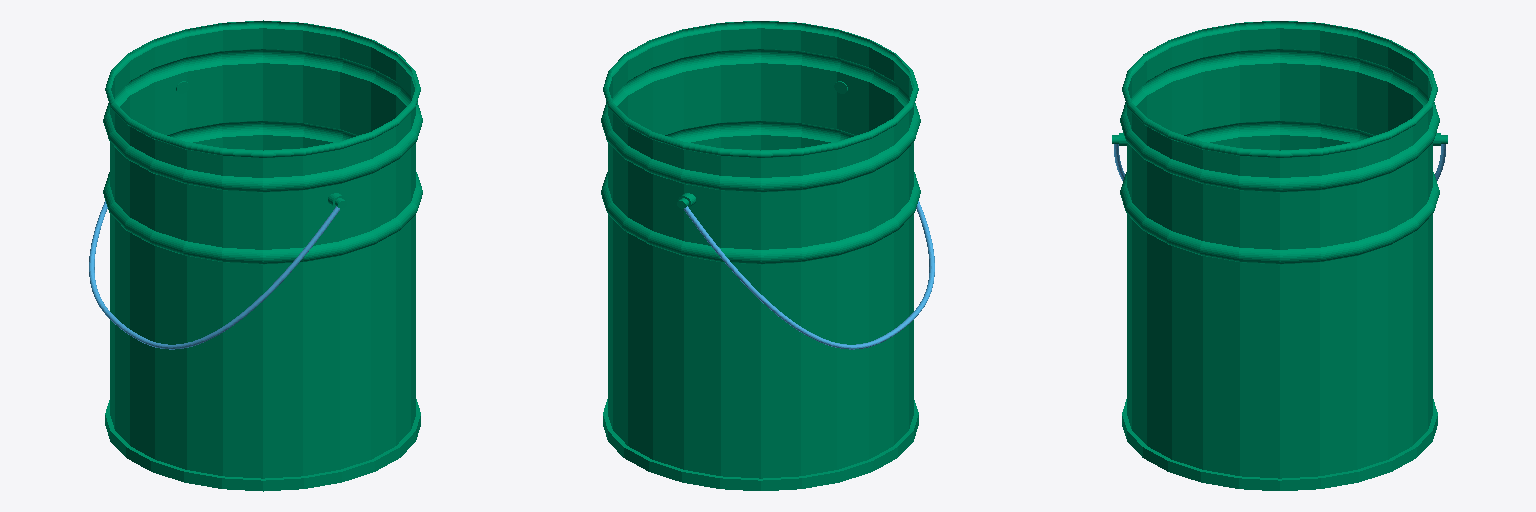
The robot description file, URDF, robot "partnet_uce940367-b7b4-43b9-af12-eae51692f2f7":
<?xml version="1.0" ?>
<robot name="partnet_uce940367-b7b4-43b9-af12-eae51692f2f7">
	<link name="base"/>
	<link name="link_0">
		<visual name="handle-1">
			<origin xyz="0 -0.3550381301112663 -0.01407460166215898"/>
			<geometry>
				<mesh filename="textured_objs/original-9.obj"/>
			</geometry>
		</visual>
		<visual name="handle-1">
			<origin xyz="0 -0.3550381301112663 -0.01407460166215898"/>
			<geometry>
				<mesh filename="textured_objs/original-13.obj"/>
			</geometry>
		</visual>
		<collision>
			<origin xyz="0 -0.3550381301112663 -0.01407460166215898"/>
			<geometry>
				<mesh filename="textured_objs/original-9.obj"/>
			</geometry>
		</collision>
		<collision>
			<origin xyz="0 -0.3550381301112663 -0.01407460166215898"/>
			<geometry>
				<mesh filename="textured_objs/original-13.obj"/>
			</geometry>
		</collision>
	</link>
	<joint name="joint_0" type="revolute">
		<origin xyz="0 0.3550381301112663 0.01407460166215898"/>
		<axis xyz="-1 0 0"/>
		<child link="link_0"/>
		<parent link="link_1"/>
		<limit lower="-0.0" upper="4.781504018763666"/>
	</joint>
	<link name="link_1">
		<visual name="base_body-3">
			<origin xyz="0 0 0"/>
			<geometry>
				<mesh filename="textured_objs/original-3.obj"/>
			</geometry>
		</visual>
		<visual name="base_body-3">
			<origin xyz="0 0 0"/>
			<geometry>
				<mesh filename="textured_objs/original-2.obj"/>
			</geometry>
		</visual>
		<visual name="base_body-3">
			<origin xyz="0 0 0"/>
			<geometry>
				<mesh filename="textured_objs/original-8.obj"/>
			</geometry>
		</visual>
		<visual name="base_body-3">
			<origin xyz="0 0 0"/>
			<geometry>
				<mesh filename="textured_objs/original-5.obj"/>
			</geometry>
		</visual>
		<visual name="base_body-3">
			<origin xyz="0 0 0"/>
			<geometry>
				<mesh filename="textured_objs/original-11.obj"/>
			</geometry>
		</visual>
		<visual name="base_body-3">
			<origin xyz="0 0 0"/>
			<geometry>
				<mesh filename="textured_objs/original-12.obj"/>
			</geometry>
		</visual>
		<visual name="base_body-3">
			<origin xyz="0 0 0"/>
			<geometry>
				<mesh filename="textured_objs/original-7.obj"/>
			</geometry>
		</visual>
		<collision>
			<origin xyz="0 0 0"/>
			<geometry>
				<mesh filename="textured_objs/original-3.obj"/>
			</geometry>
		</collision>
		<collision>
			<origin xyz="0 0 0"/>
			<geometry>
				<mesh filename="textured_objs/original-2.obj"/>
			</geometry>
		</collision>
		<collision>
			<origin xyz="0 0 0"/>
			<geometry>
				<mesh filename="textured_objs/original-8.obj"/>
			</geometry>
		</collision>
		<collision>
			<origin xyz="0 0 0"/>
			<geometry>
				<mesh filename="textured_objs/original-5.obj"/>
			</geometry>
		</collision>
		<collision>
			<origin xyz="0 0 0"/>
			<geometry>
				<mesh filename="textured_objs/original-11.obj"/>
			</geometry>
		</collision>
		<collision>
			<origin xyz="0 0 0"/>
			<geometry>
				<mesh filename="textured_objs/original-12.obj"/>
			</geometry>
		</collision>
		<collision>
			<origin xyz="0 0 0"/>
			<geometry>
				<mesh filename="textured_objs/original-7.obj"/>
			</geometry>
		</collision>
	</link>
	<joint name="joint_1" type="fixed">
		<origin rpy="1.570796326794897 0 -1.570796326794897" xyz="0 0 0"/>
		<child link="link_1"/>
		<parent link="base"/>
	</joint>
</robot>

--- Render facts (derived) ---
Views: 3 orthographic renders of the robot side by side, from view 1: azimuth 30°, elevation 25°; view 2: azimuth 150°, elevation 25°; view 3: azimuth 270°, elevation 25°.
Model partnet_uce940367-b7b4-43b9-af12-eae51692f2f7 with 3 links and 2 joints (1 revolute, 1 fixed), rooted at base, posed all joints at 0.
Visible links, largest first — view 1: link_1, link_0; view 2: link_1, link_0; view 3: link_1.
Link boxes in pixels (bbox=[...]): link_1: bbox=[103, 20, 422, 491]; link_0: bbox=[89, 201, 339, 349]; link_1: bbox=[601, 21, 920, 490]; link_0: bbox=[684, 201, 934, 349]; link_1: bbox=[1112, 21, 1447, 490].
Bounding box of the posed robot: 1.19 × 1.25 × 1.39 m (x, y, z).
9 mesh visuals loaded from 9 distinct referenced files (9 OBJ).
